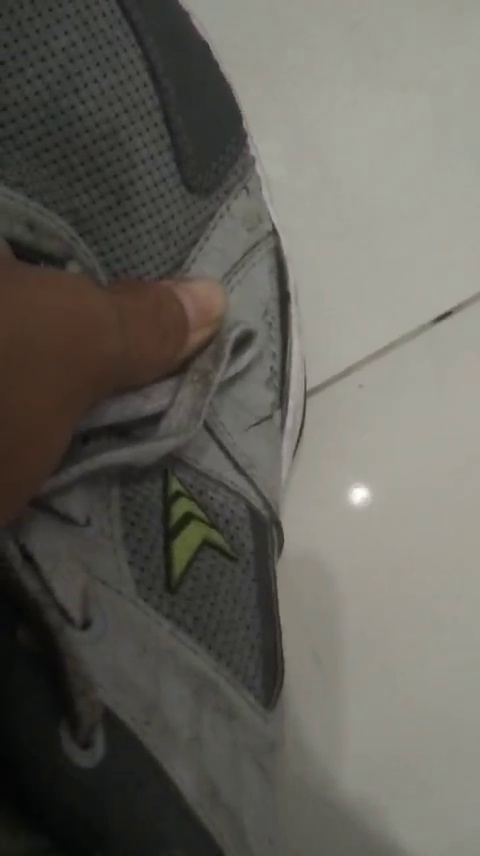bonding: (264, 215, 303, 431)
